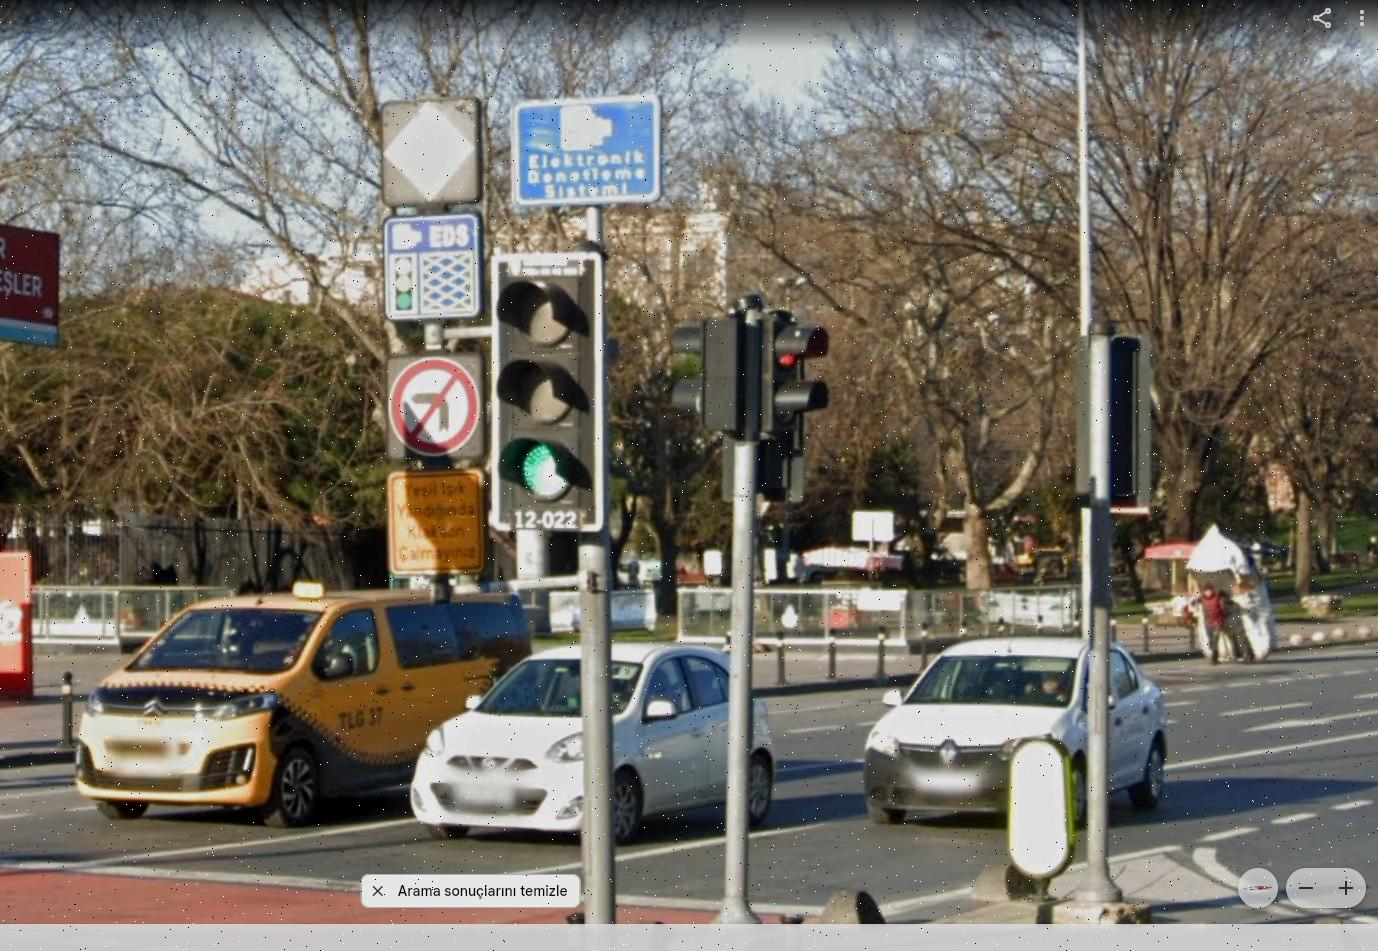greenlight: (488, 263, 602, 530)
leftturnsareforbidden: (382, 354, 483, 452)
